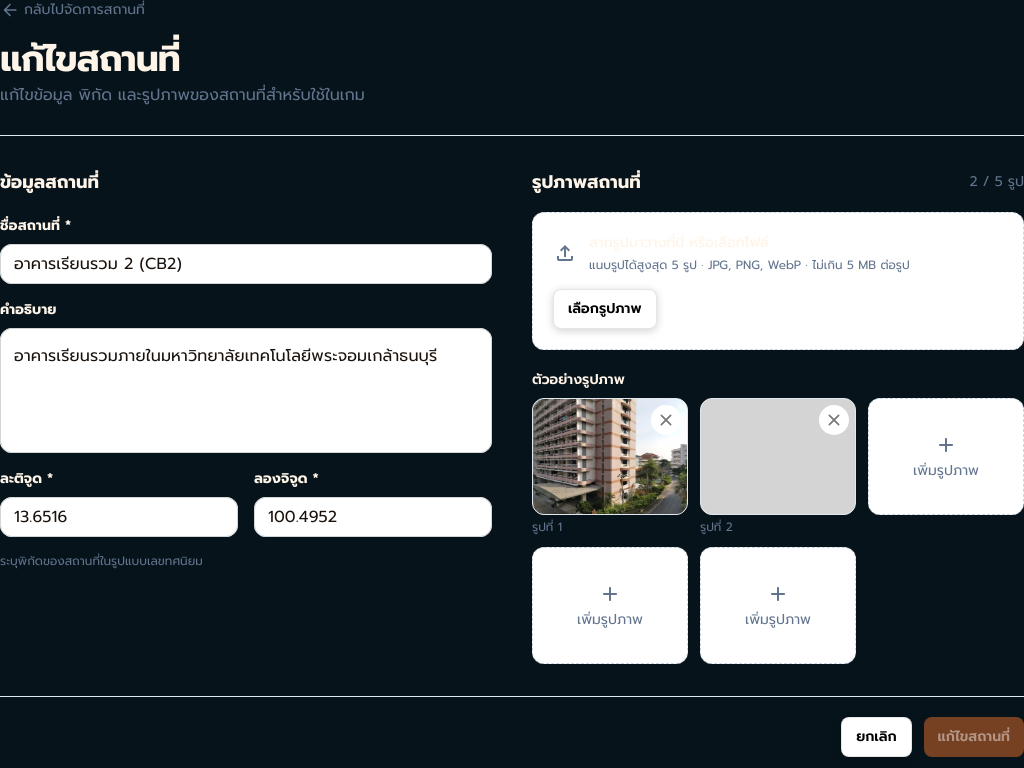
location editor › warns on browser Back when only an existing image was removed
Click the button named "ลบรูปที่ 1" at (666, 420), box [651,405,681,435]
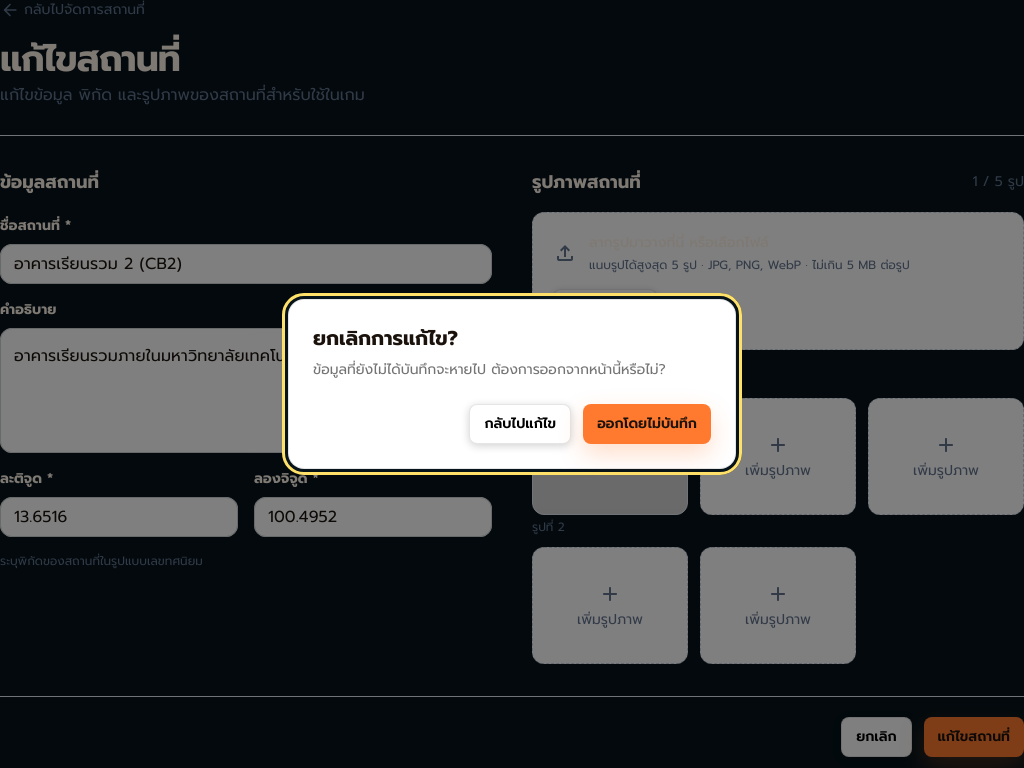
Check: the dialog "ยกเลิกการแก้ไข?" is shown, box [288,299,736,469]
